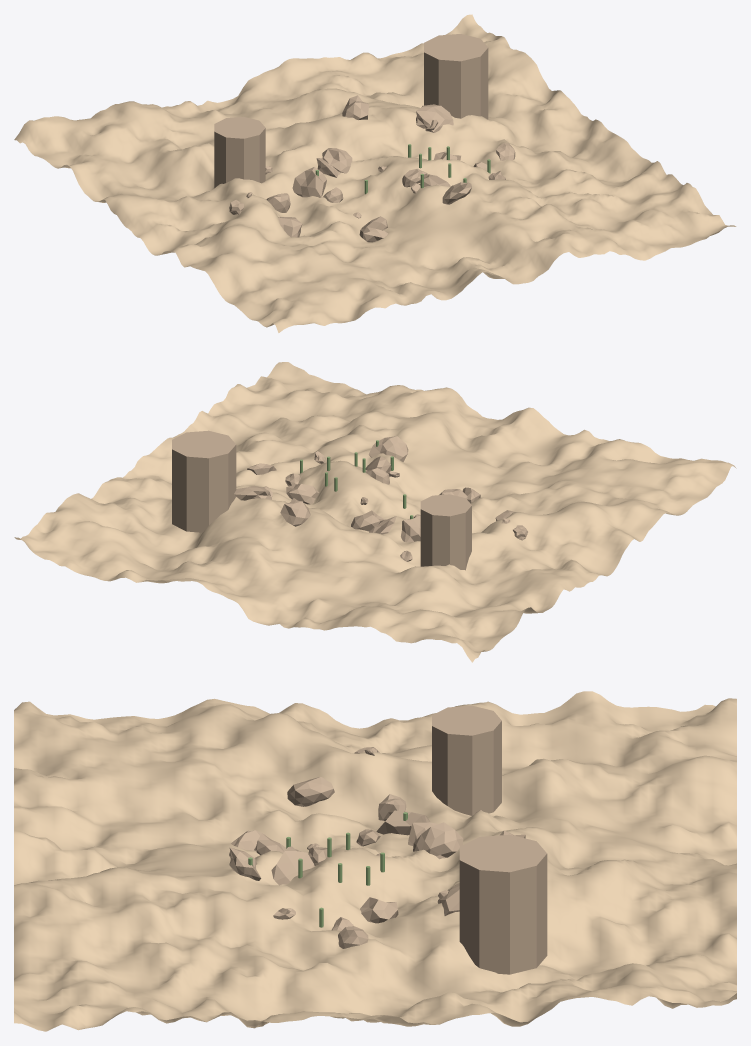
Rendered from land_desert.glb.
3 views of the same model, one above another, from view 1: azimuth 30°, elevation 25°; view 2: azimuth 150°, elevation 25°; view 3: azimuth 270°, elevation 25° (orthographic). The views are drawn at different scales.
Visible parts, largest first — view 1: ground, rocks; view 2: ground, rocks; view 3: ground, rocks, plants.
Boxes of the visible parts, x1,y1,x2,y2 form: ground: (14, 14, 736, 332); rocks: (214, 34, 515, 242); ground: (14, 362, 736, 662); rocks: (172, 430, 527, 570); ground: (14, 691, 736, 1031); rocks: (229, 705, 547, 974); plants: (248, 812, 407, 927).
Size of the model in its own units: 80 by 16.31 by 80.
